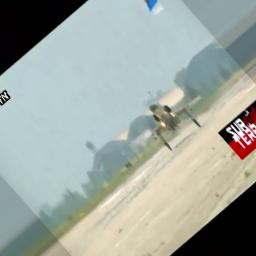Airplane: (137, 95, 204, 152)
